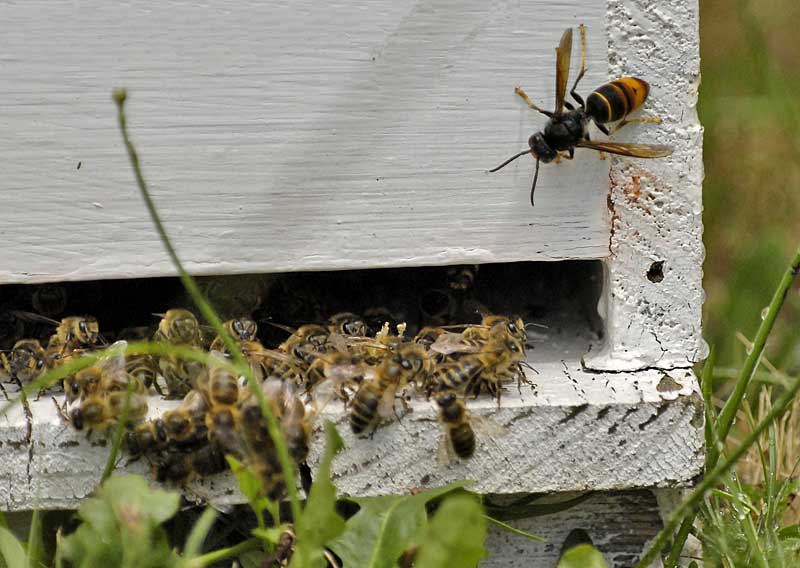bee: (67, 376, 199, 467), (347, 356, 424, 434), (131, 308, 206, 372), (444, 337, 525, 395), (429, 386, 485, 460), (324, 302, 412, 349), (198, 368, 249, 440), (39, 317, 110, 367), (218, 315, 280, 365), (279, 324, 337, 376), (464, 312, 538, 350)
hornet: (504, 55, 685, 174)
